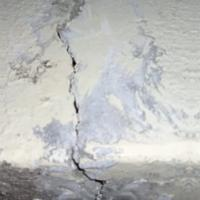crack: (42, 7, 148, 199)
